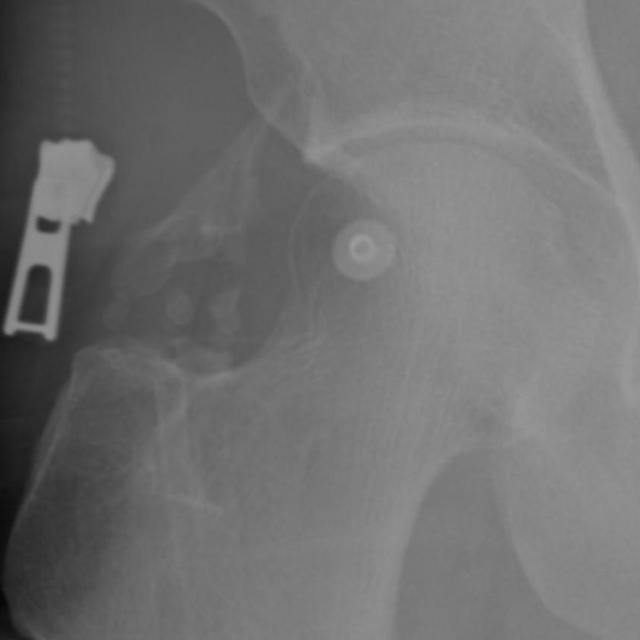Fitted_femural_head: (323, 145, 432, 323)
